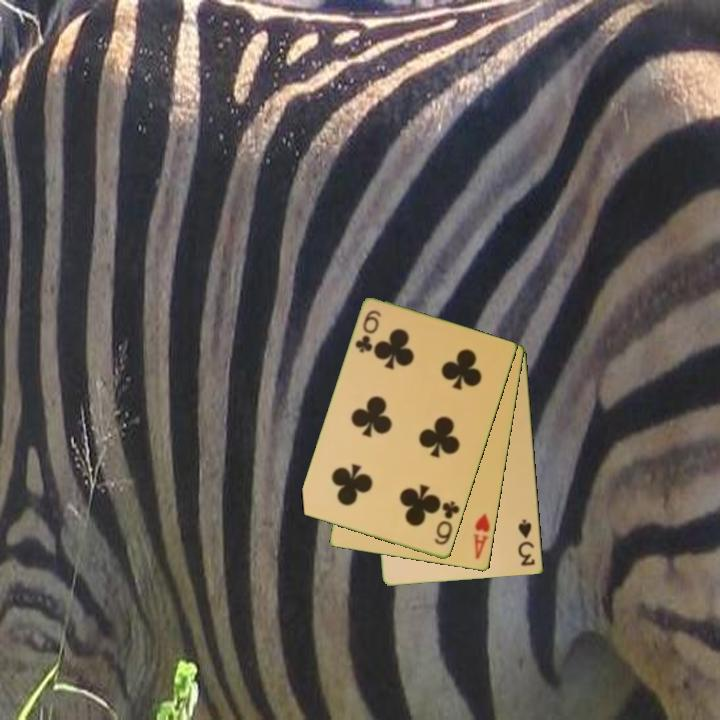3s: (515, 516, 538, 569)
6c: (431, 497, 463, 548), (352, 307, 384, 356)
Ah: (470, 510, 493, 562)
